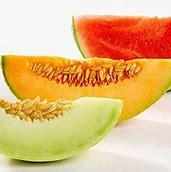Melon Ripe: (1, 51, 171, 103)
